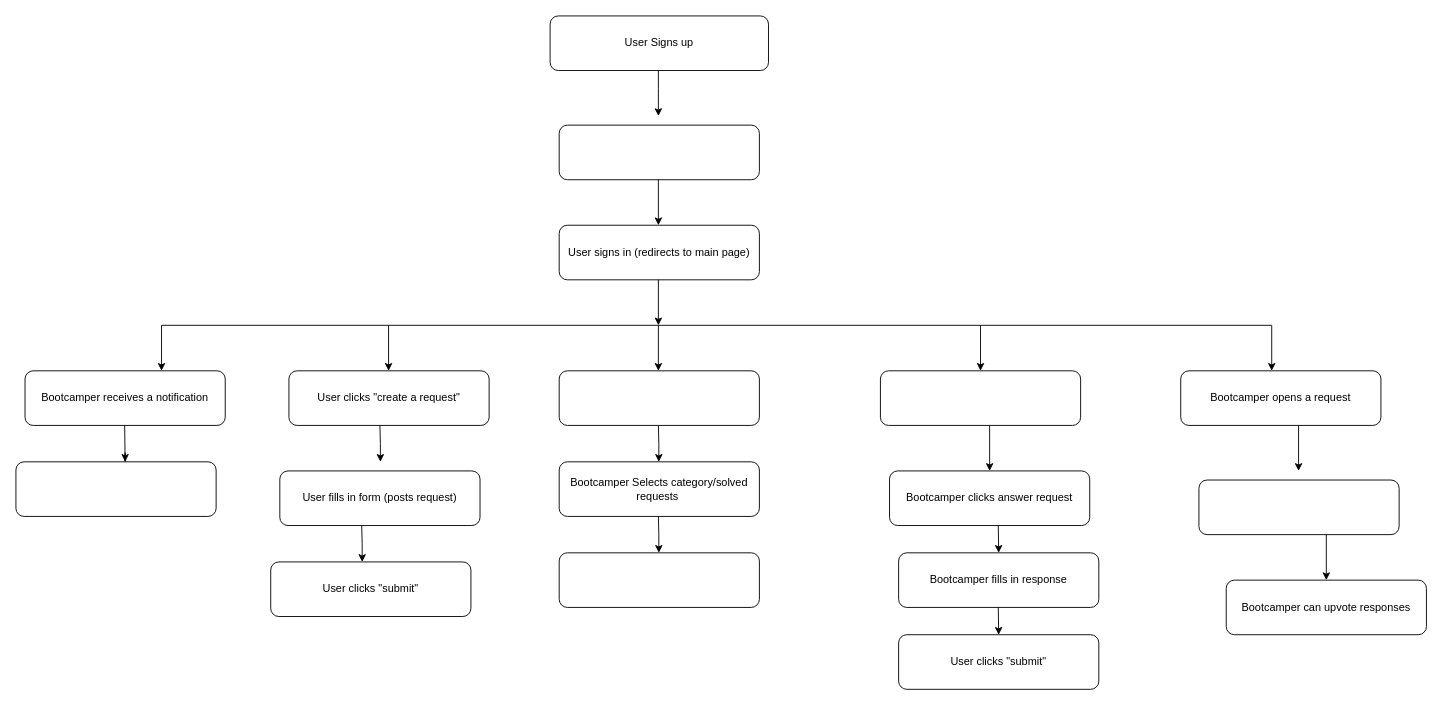
The diagram is 1442 pixels wide and 705 high, and some of its shapes have lost their labels. The shapes that lost their labels are listed below. From the top down, each one's centre as x and y in pixels, then its label:
(658,152): user input of Email and Password
(658,397): Bootcamper Clicks "Find request"
(980,397): Bootcamper scrolls through requests feed
(115,488): Bootcamper Clicks notification to view the response
(1298,507): Bootcamper reads through responses
(658,579): Bootcamper selects from list previous request/discussions
